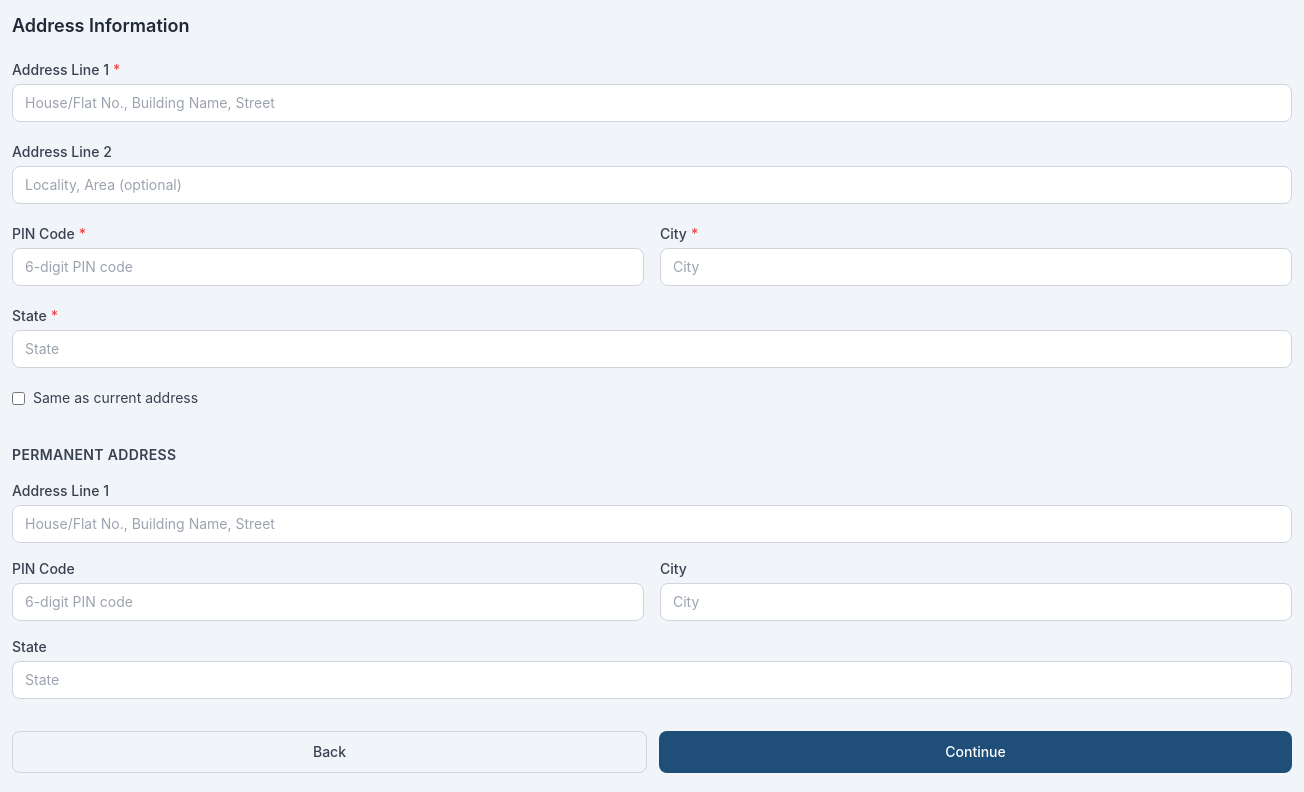
Test case: AddressInfo component › validates PIN code format
Type "12345" into the field named "currentZip" at [328, 267], box [12, 248, 644, 286]
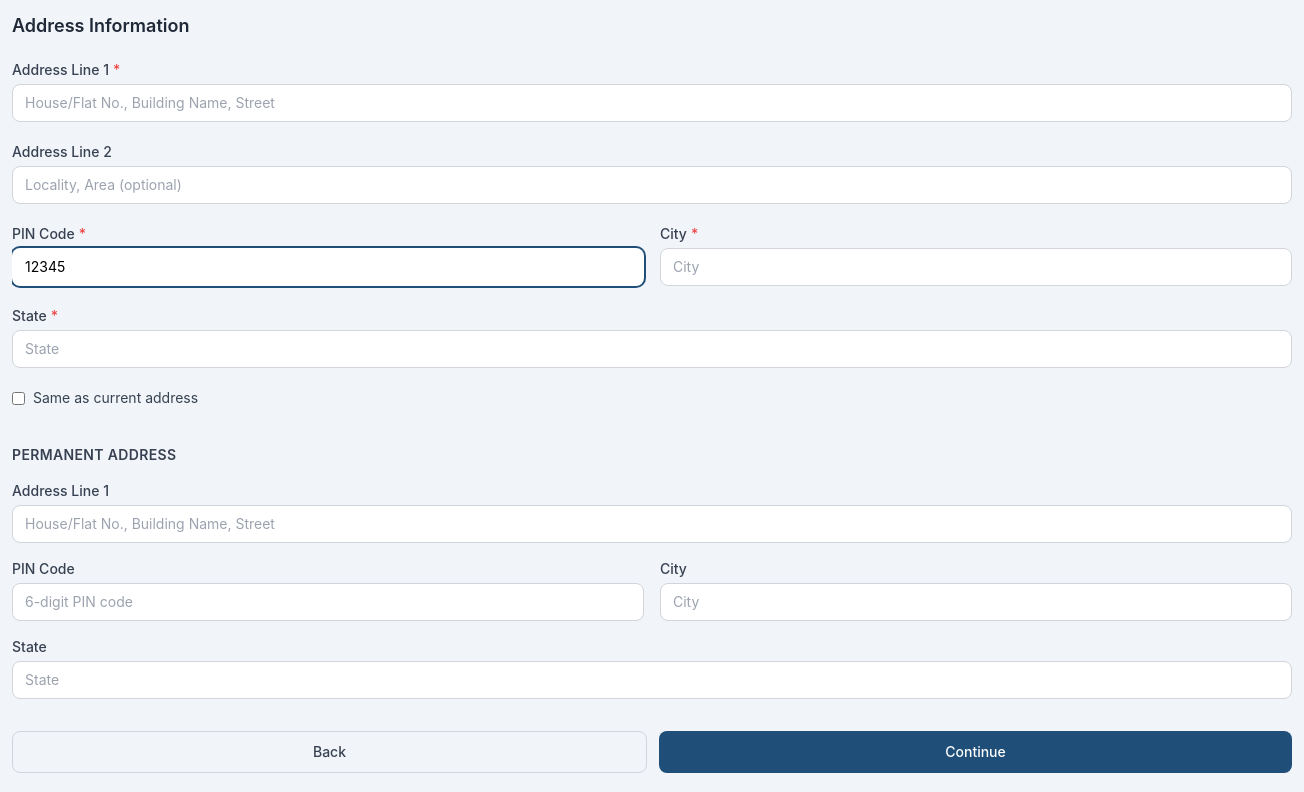
Click the button "Continue" at [976, 752], box [659, 731, 1292, 773]
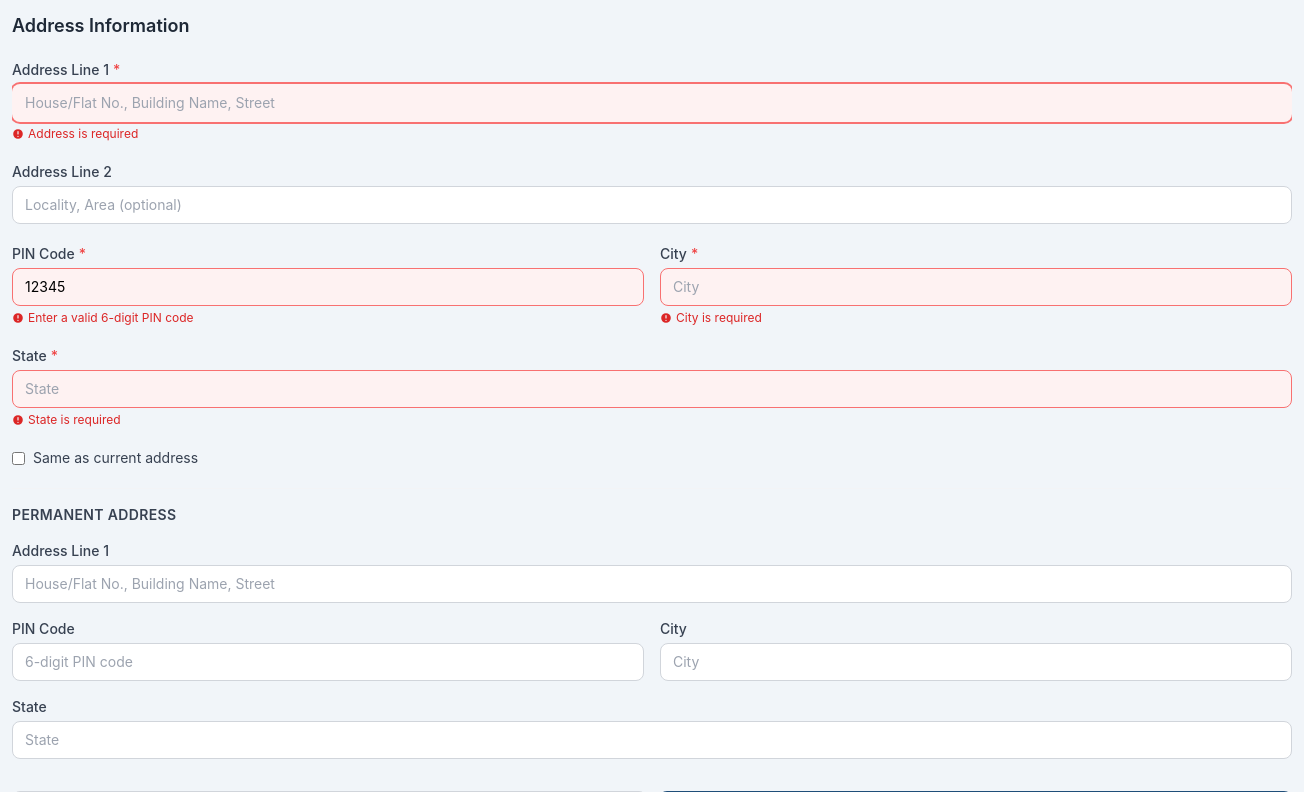
Check: the text "Enter a valid 6-digit PIN code" is shown, box [12, 310, 194, 325]
